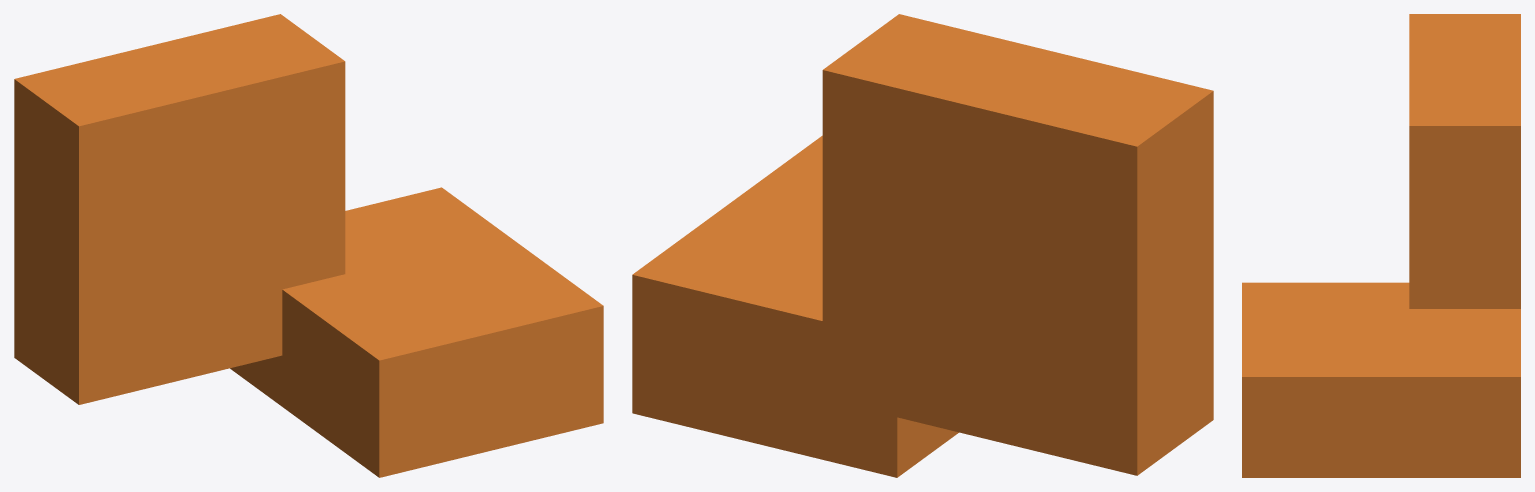
File: assembly-fitting.gltf
3 renders of one model, left to right at view 1: azimuth 30°, elevation 25°; view 2: azimuth 150°, elevation 25°; view 3: azimuth 270°, elevation 25°, orthographic. The views are drawn at different scales.
Visible parts, largest first — view 1: assembly-fitting, assembly-fitting.001; view 2: assembly-fitting, assembly-fitting.001; view 3: assembly-fitting.001, assembly-fitting.
Boxes of the visible parts, x1,y1,x2,y2 form: assembly-fitting: [14, 14, 345, 404]; assembly-fitting.001: [230, 187, 603, 477]; assembly-fitting: [822, 14, 1213, 475]; assembly-fitting.001: [632, 135, 958, 477]; assembly-fitting.001: [1242, 282, 1520, 477]; assembly-fitting: [1409, 14, 1520, 308].
Size of the model in its own units: 0.305 by 0.225 by 0.2.
